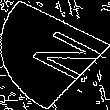N_SE: (10, 23, 100, 87)
